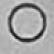no answer: (7, 3, 47, 46)
